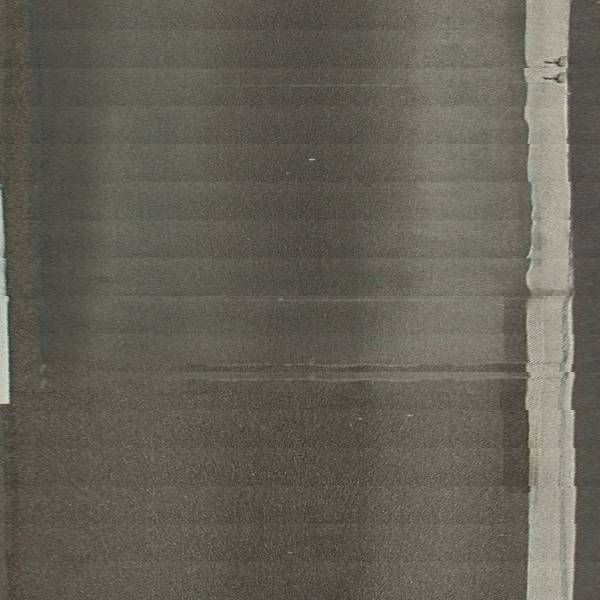road_damage: (192, 355, 523, 385)
